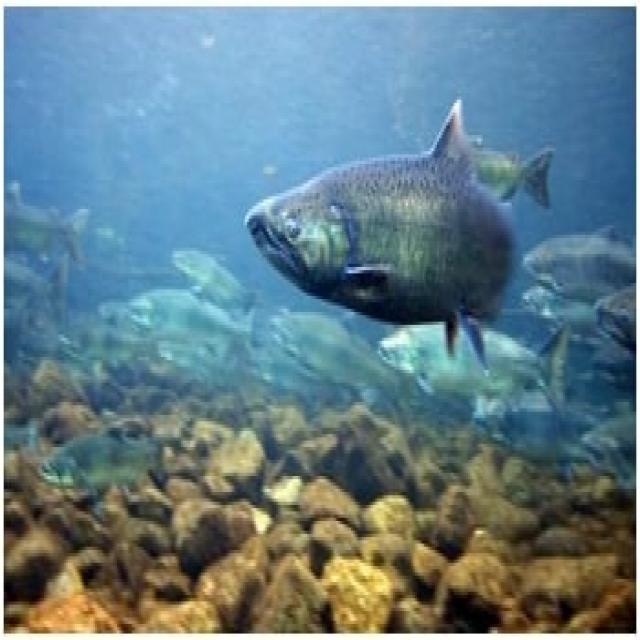salmon: (228, 87, 538, 389)
